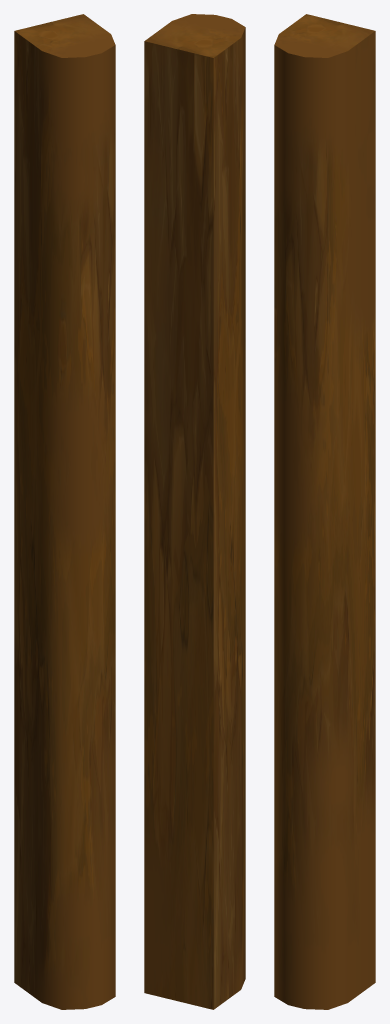
File: Pole.fbx
The picture shows the model from 3 angles, left to right: view 1: azimuth 30°, elevation 25°; view 2: azimuth 150°, elevation 25°; view 3: azimuth 330°, elevation 25°; orthographic projection.
Parts seen in each view (by area): view 1: Pole; view 2: Pole; view 3: Pole.
Boxes of the visible parts, x1,y1,x2,y2 form: Pole: (14, 14, 115, 1009); Pole: (144, 14, 245, 1009); Pole: (274, 14, 375, 1009).
Size of the model in its own units: 60.83 by 800 by 68.13.
